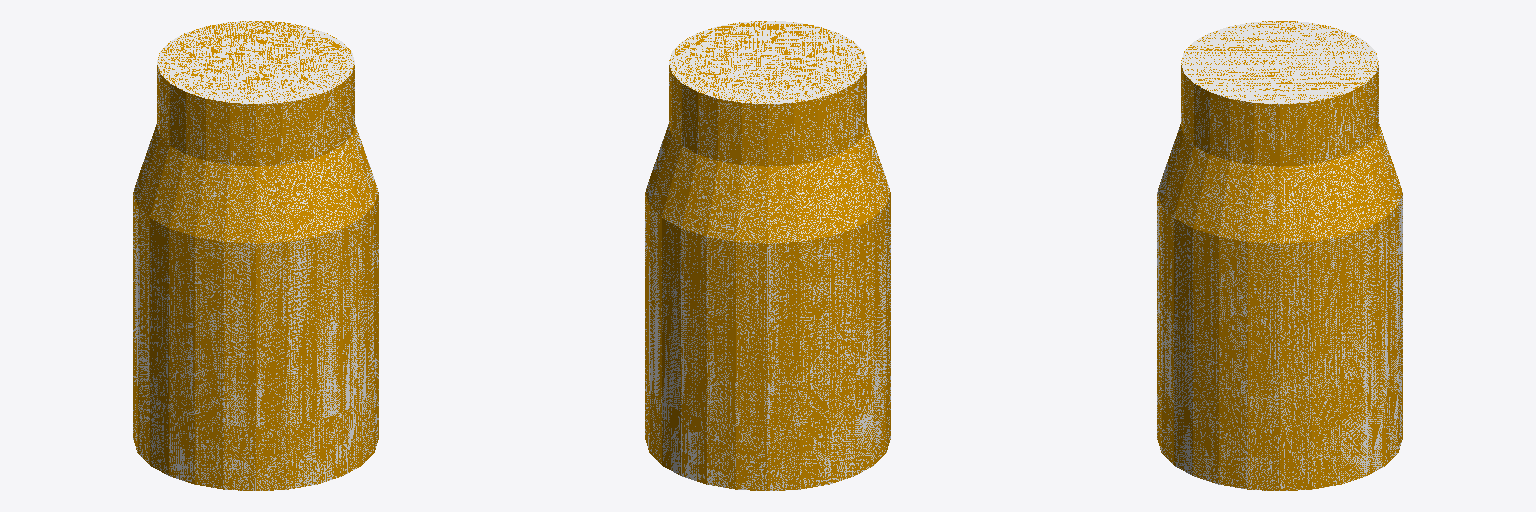
URDF robot description (my_object):
<?xml version="1.0" ?> 
<robot name="my_object" static="true">
  <link name="base_link">
  <inertial>
    <mass value="0.094" />
    <origin xyz="0 0 0.0" />
    <inertia ixx="1.0" ixy="0.0" ixz="0.0" iyy="1.0" iyz="0.0" izz="1.0"/>
  </inertial>
  <visual>
   <origin xyz="0 0 0.0" rpy="0 0 0" />
   <geometry>
     <mesh filename="package://cob_gazebo_objects/Media/models/medicine_panodil.dae"/>
   </geometry>
  </visual>
  <collision>
   <origin xyz="0 0 0.045" rpy="0 0 0" />
   <geometry>
     <box size="0.051 0.051 0.09" />
   </geometry>
  </collision>     
  </link>

<gazebo>
	<static>true</static>
</gazebo>
</robot>

--- Render facts (derived) ---
The picture shows the robot from 3 angles, left to right: view 1: azimuth 30°, elevation 25°; view 2: azimuth 150°, elevation 25°; view 3: azimuth 270°, elevation 25°; orthographic projection.
Model my_object with 1 links and 0 joints (none), rooted at base_link, posed all joints at 0.
Links seen in each view (by area): view 1: base_link; view 2: base_link; view 3: base_link.
Boxes of the visible links, x1,y1,x2,y2 form: base_link: [133, 21, 378, 490]; base_link: [645, 21, 890, 490]; base_link: [1157, 21, 1402, 490].
Bounding box of the posed robot: 0.052 × 0.052 × 0.0883 m (x, y, z).
1 mesh visuals loaded from 1 distinct referenced files (1 Collada DAE).